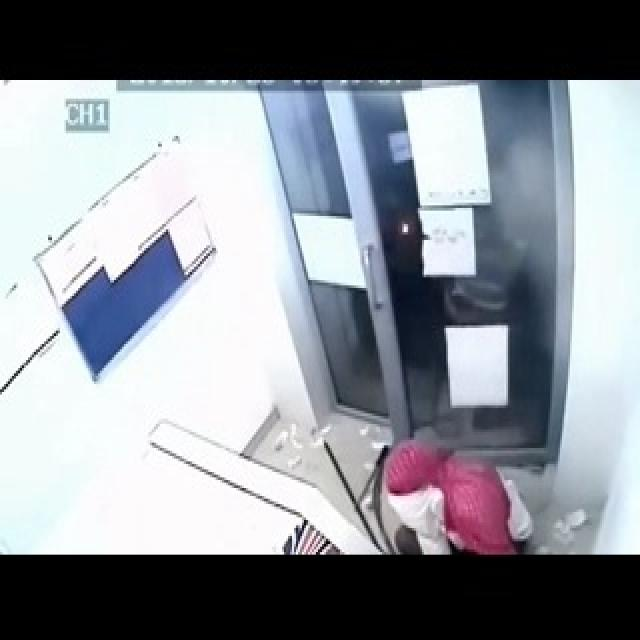thief: (370, 411, 535, 550)
